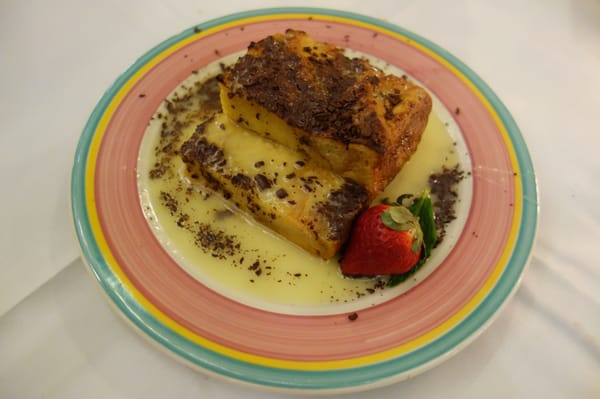curry: (36, 2, 599, 390)
